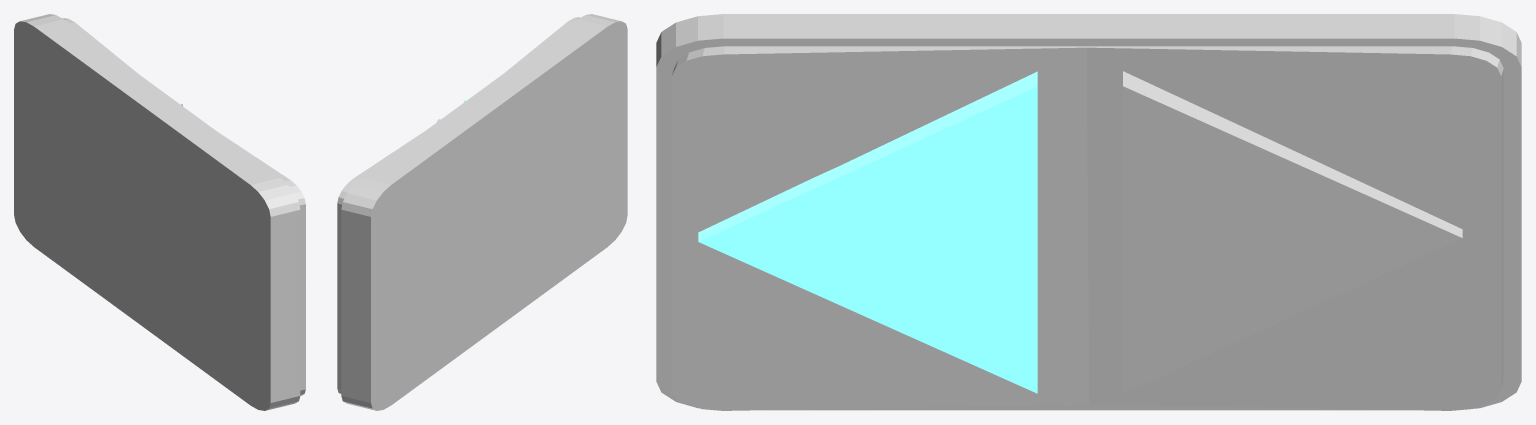
File: Switch.fbx
3 views of the same model, side by side, from view 1: azimuth 30°, elevation 25°; view 2: azimuth 150°, elevation 25°; view 3: azimuth 270°, elevation 25° (orthographic). The views are drawn at different scales.
Parts seen in each view (by area): view 1: Cube; view 2: Cube; view 3: Cube, Cube.001, Cube.002.
Boxes of the visible parts, bbox=[...] form: Cube: bbox=[14, 14, 305, 410]; Cube: bbox=[337, 14, 627, 410]; Cube: bbox=[656, 14, 1521, 410]; Cube.001: bbox=[698, 71, 1037, 393]; Cube.002: bbox=[1123, 71, 1462, 393].
Size of the model in its own units: 98.55 by 410 by 865.
